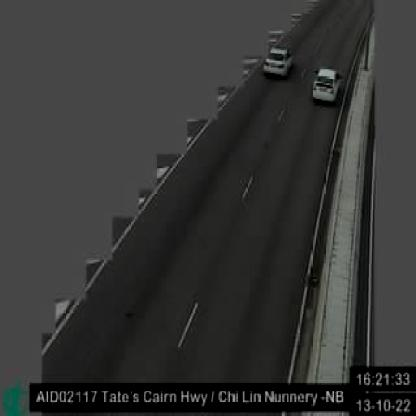Car: (310, 66, 341, 105), (262, 44, 295, 79)
